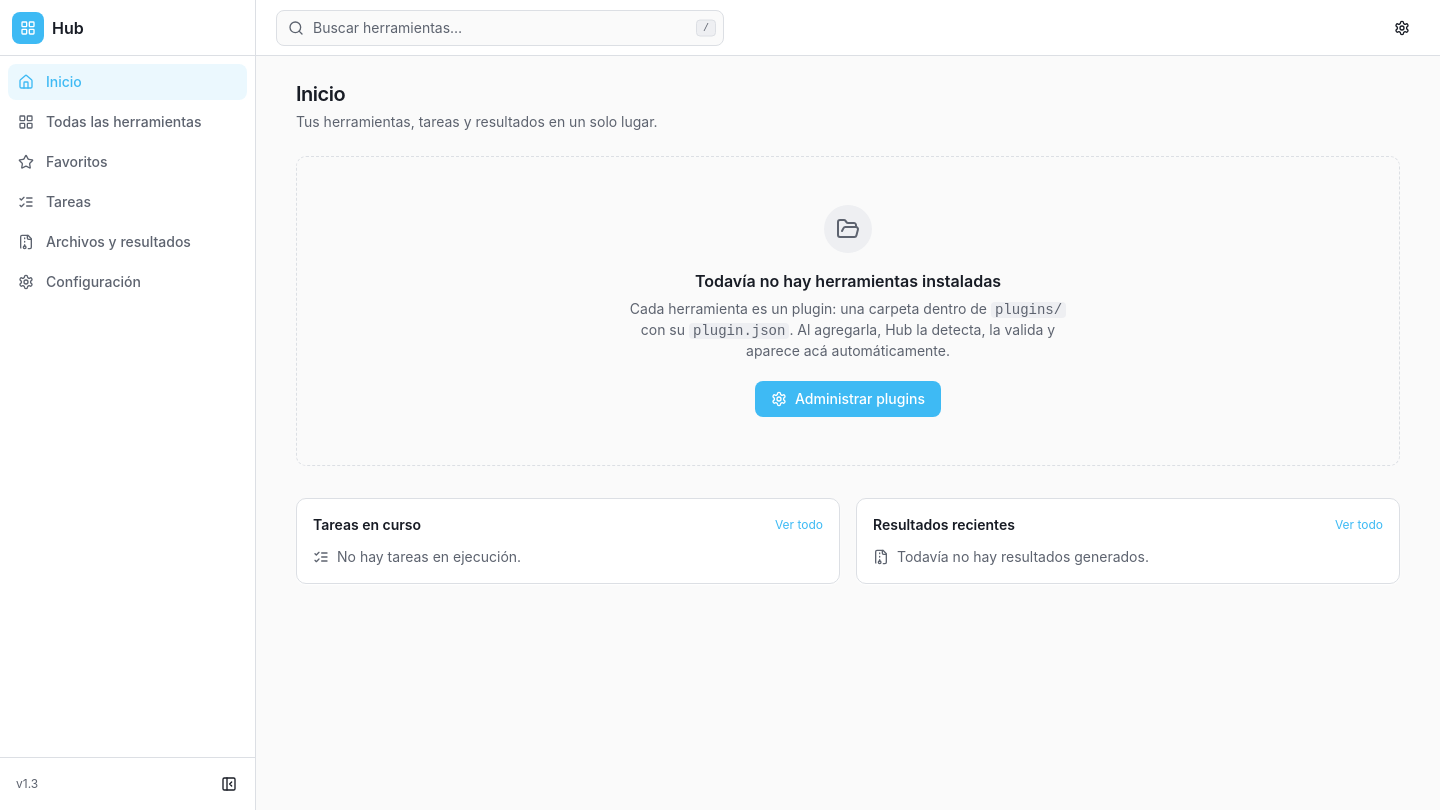
Test: navegación › muestra todas las secciones del sidebar y navega
The image size is (1440, 810).
expect the link "Inicio" is shown: met, box x1=8 y1=64 x2=247 y2=100
expect the link "Todas las herramientas" is shown: met, box x1=18 y1=113 x2=202 y2=130
Click the link "Tareas" at (55, 202), box x1=18 y1=193 x2=91 y2=210
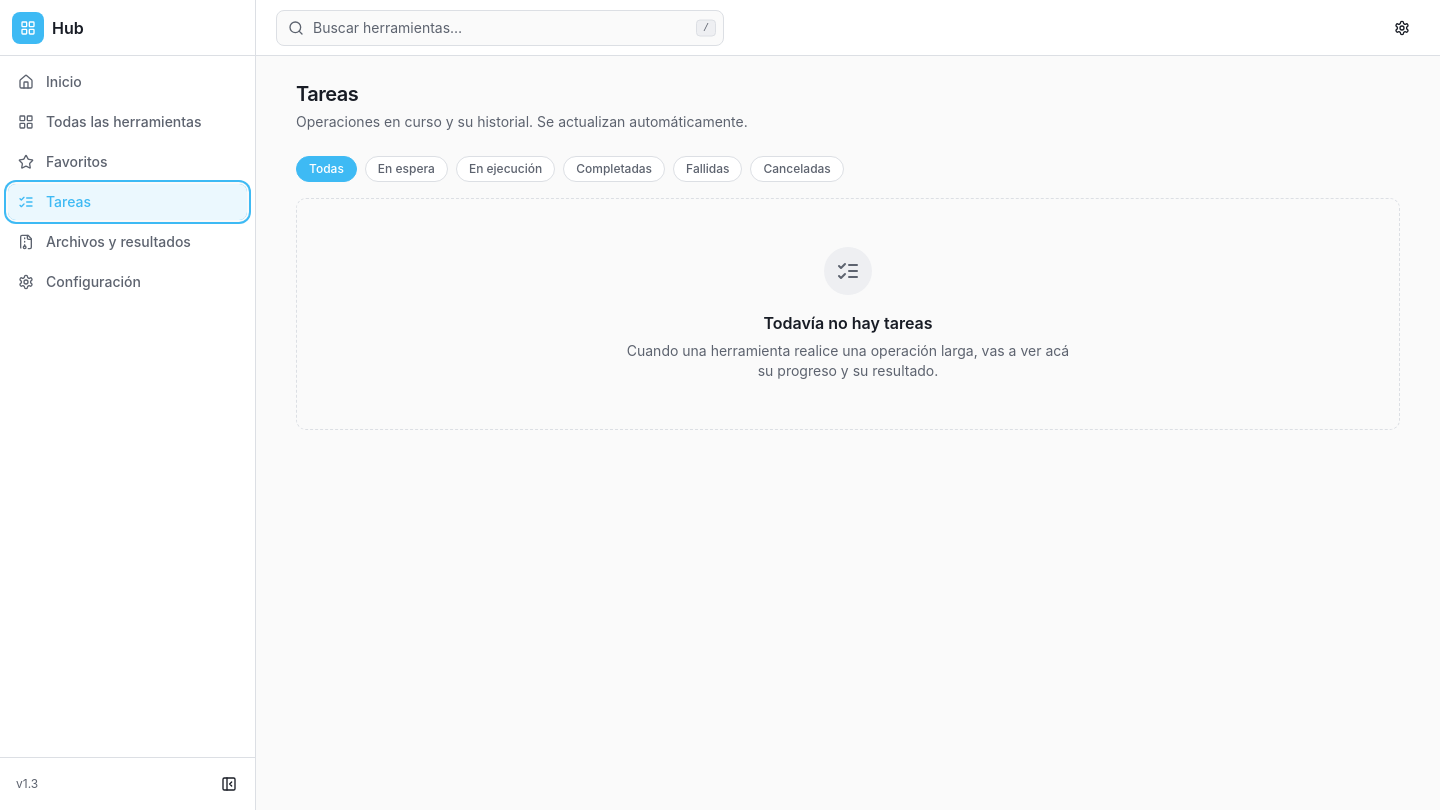
expect the heading "Tareas" is shown: met, box x1=296 y1=82 x2=358 y2=106
